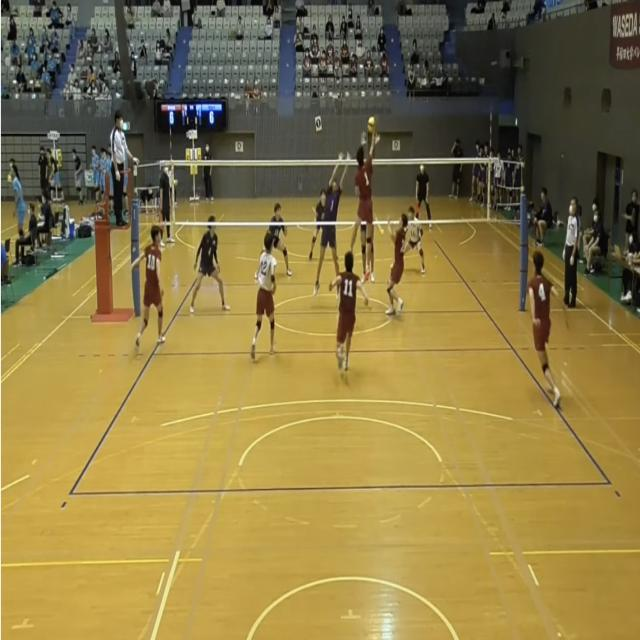spike: (349, 112, 379, 294)
